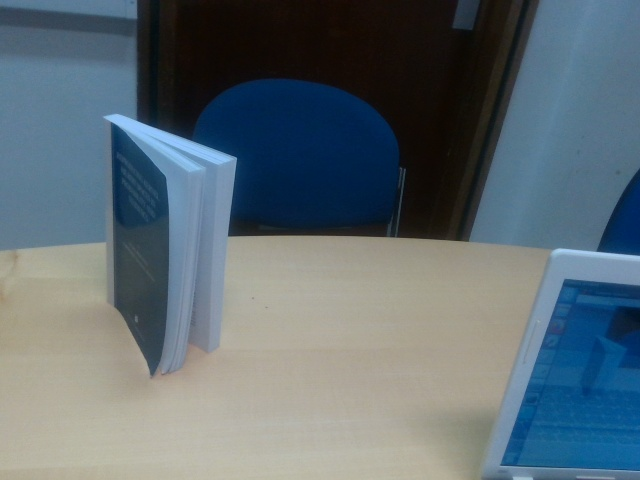book: (102, 113, 236, 378)
